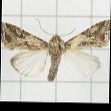Spodoptera litura: (1, 18, 110, 81)
